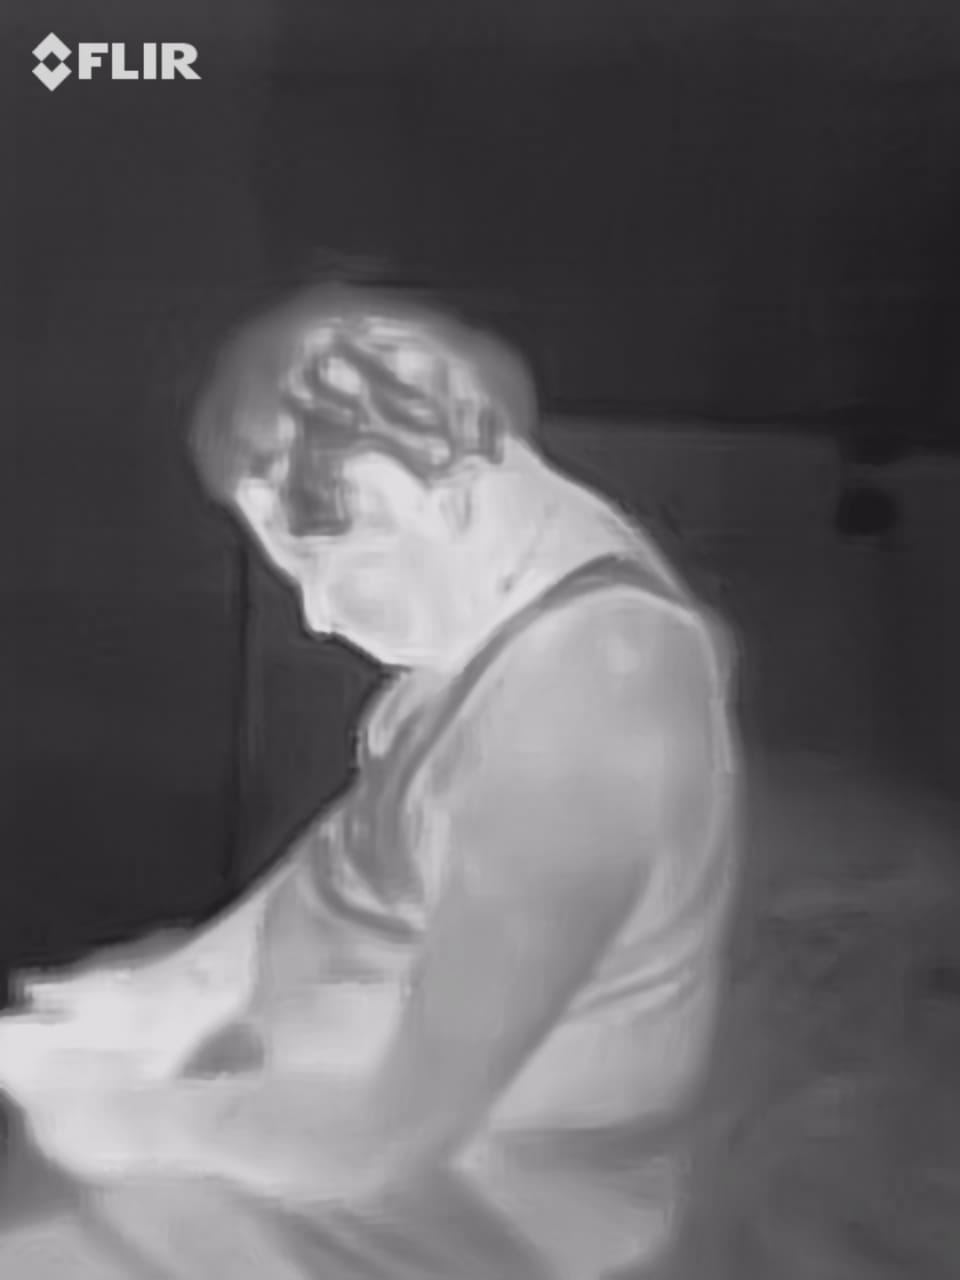head: (179, 287, 575, 665)
